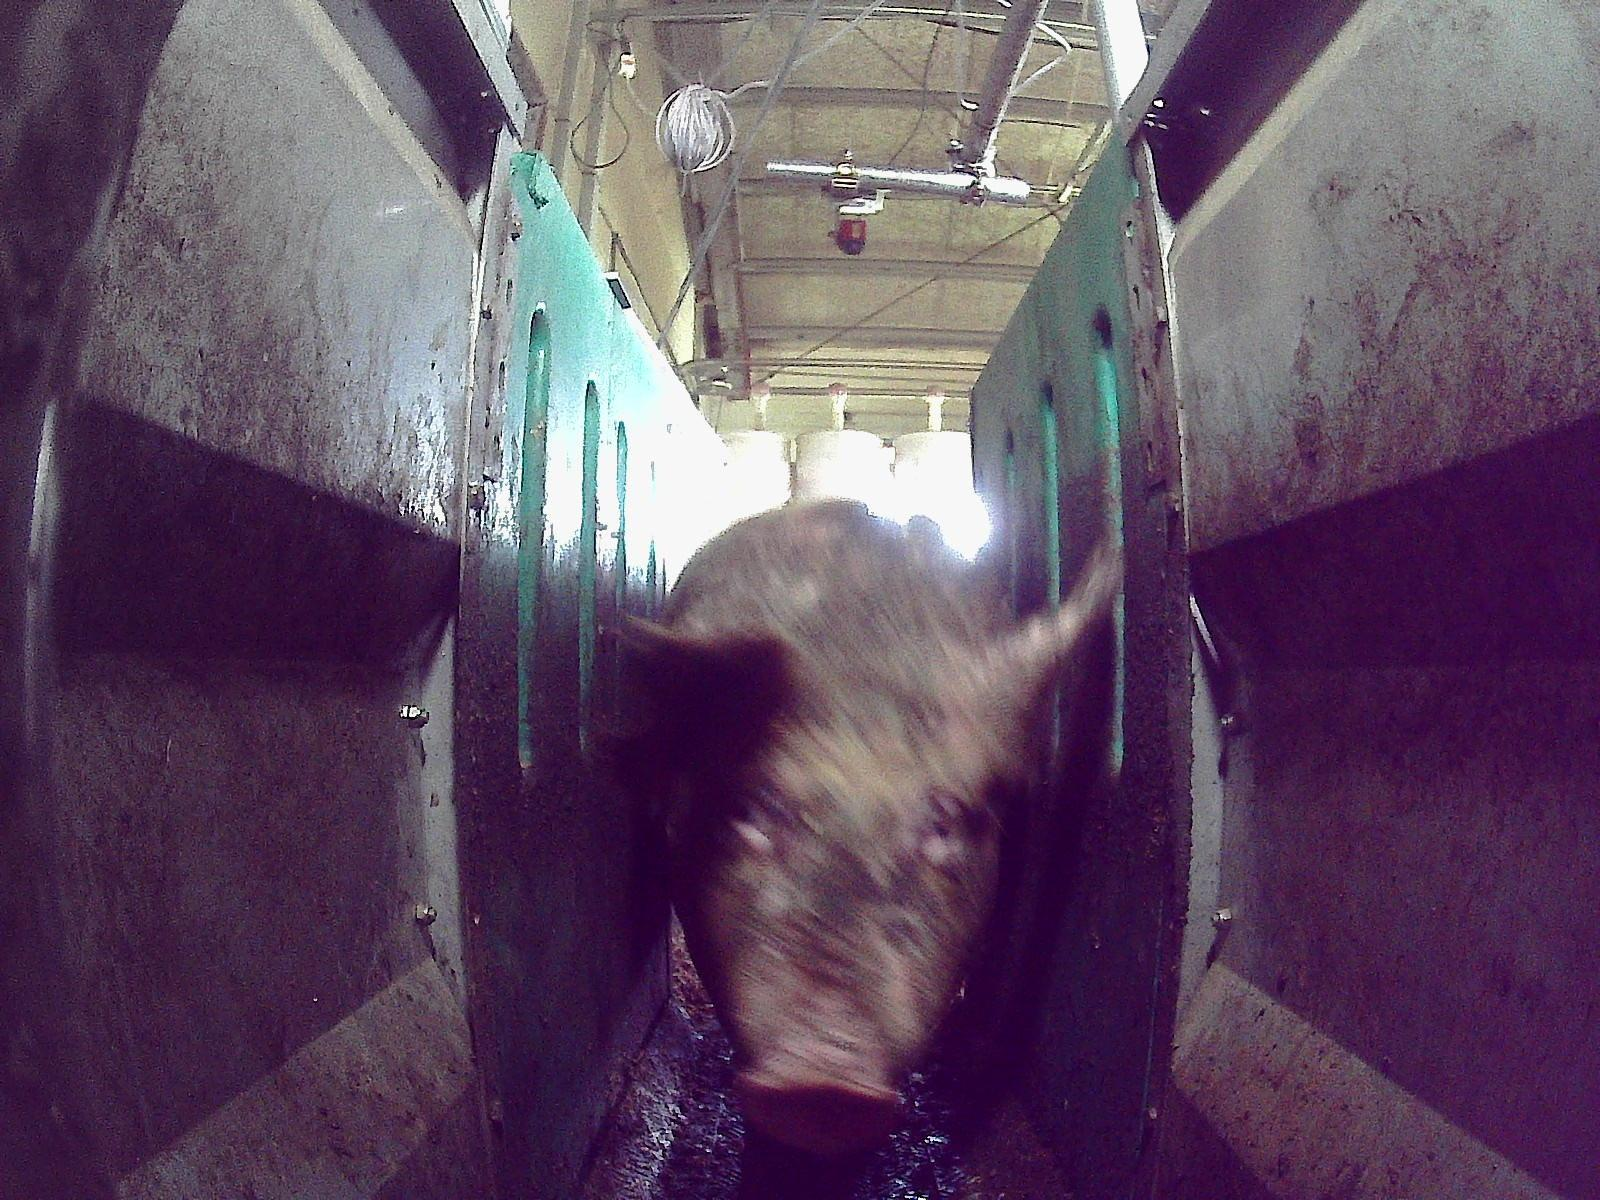Face: (669, 678, 1009, 1157)
